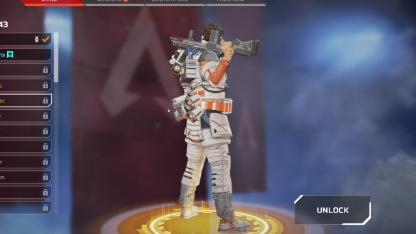Target: (179, 46, 223, 168)
